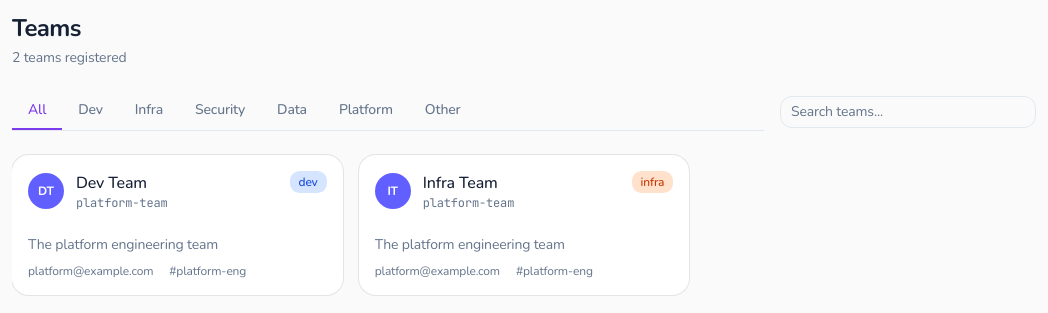
Test: TeamsClient › filters the list to only show teams of the selected type
Expected: the text "Dev Team" is shown, [76,172,147,194]
Click the button "Infra".
click(149, 111)  # box [119,92,179,130]
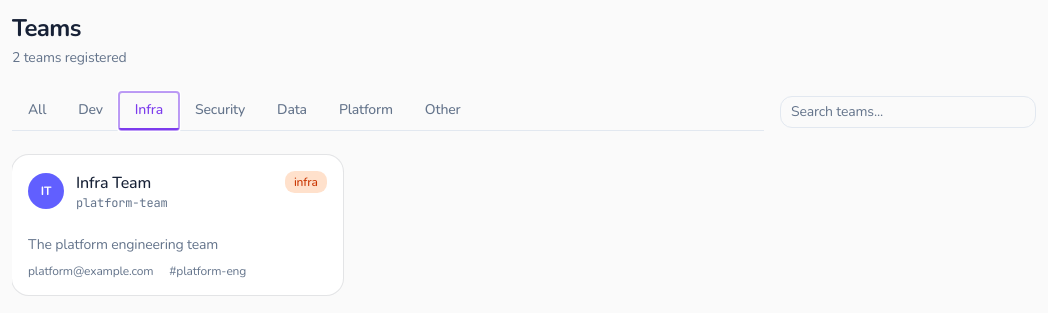
Expected: the text "Infra Team" is shown, [76,172,151,194]
Expected: the link "Dev Team" is gone
